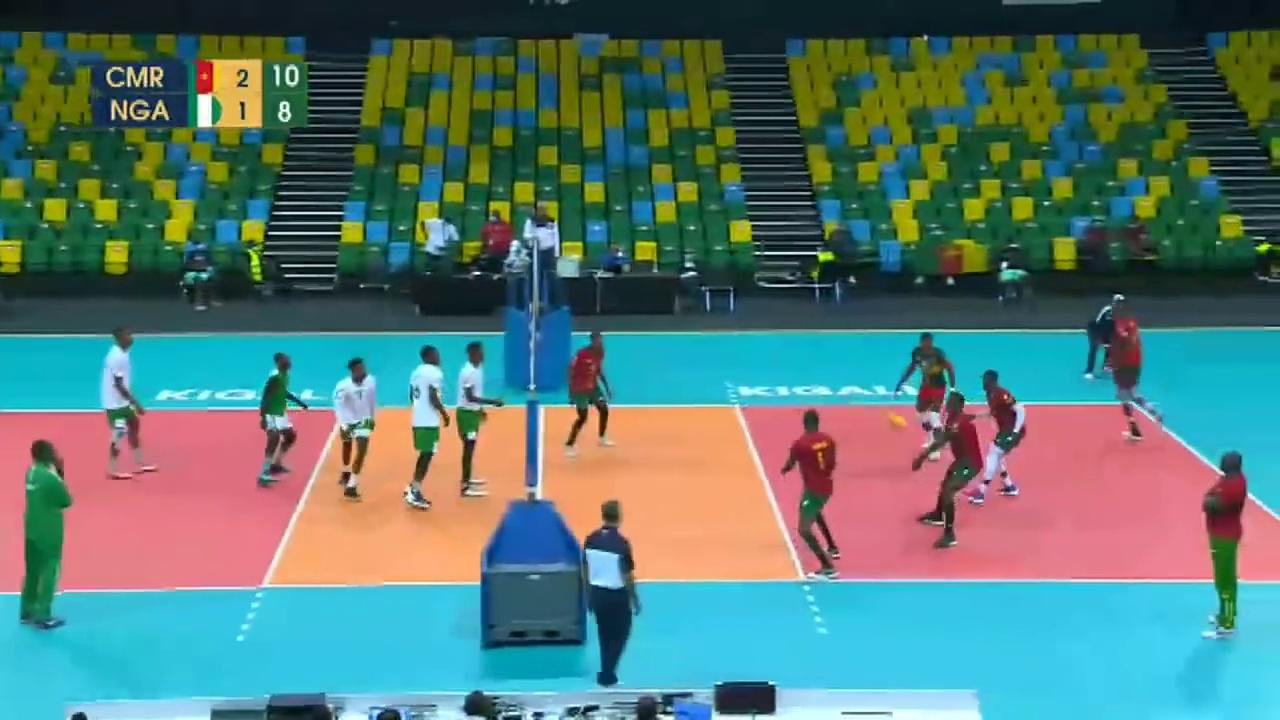player: (774, 415, 841, 572), (923, 389, 986, 552), (100, 329, 157, 478), (897, 328, 958, 467), (400, 347, 452, 510), (450, 341, 499, 498), (1101, 302, 1156, 438), (332, 358, 382, 500), (566, 332, 619, 453), (972, 371, 1022, 499), (257, 355, 308, 480)
refree: (578, 508, 642, 684), (1086, 286, 1129, 374), (525, 201, 561, 305)
